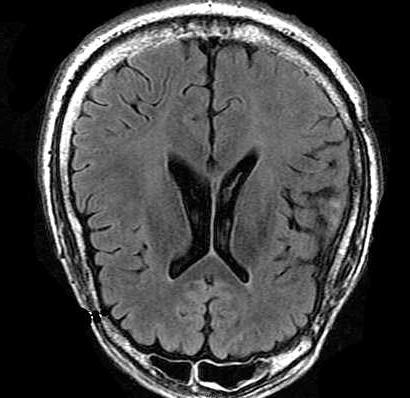Normal_Brain: (5, 1, 410, 398)
